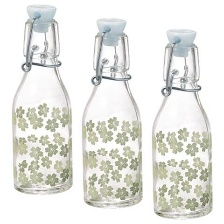bottle: (148, 20, 217, 222), (79, 12, 146, 213), (7, 2, 74, 201)
